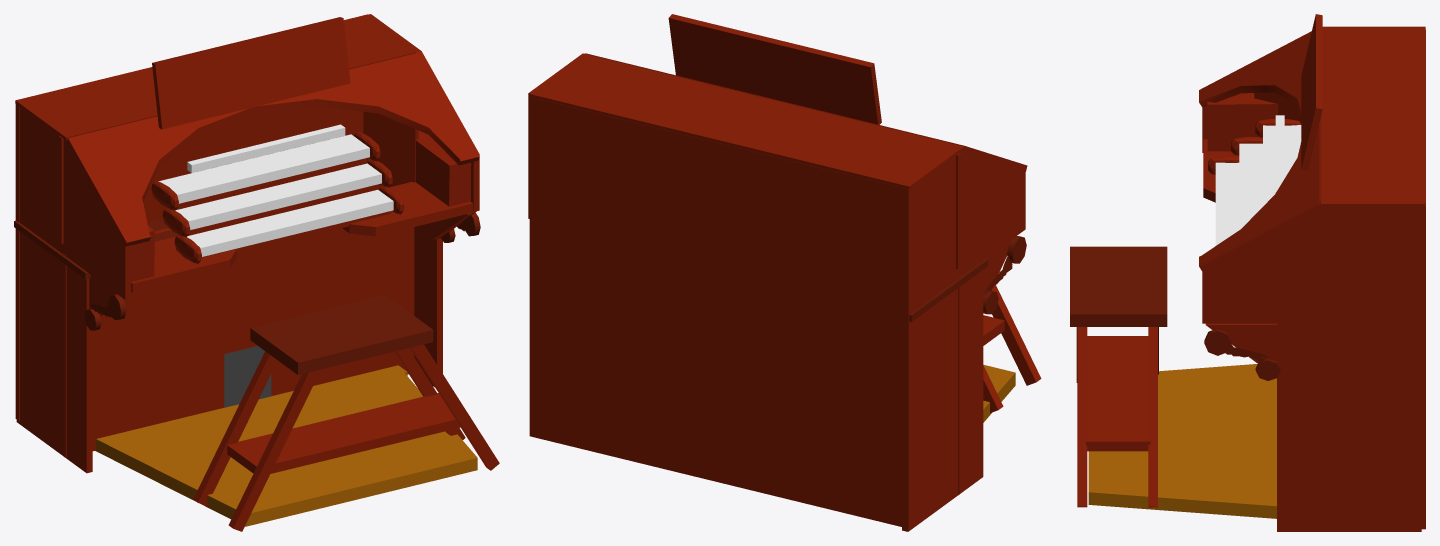
File: allenorgan.obj
3 views of the same model, side by side, from view 1: azimuth 30°, elevation 25°; view 2: azimuth 150°, elevation 25°; view 3: azimuth 270°, elevation 25° (orthographic). The views are drawn at different scales.
Parts seen in each view (by area): view 1: dividerwall, Boolean_3, cutslopefront, musicrack, Cube_1, Boolean_left, bench_seat, top, Cube_7, nameboard, manualkeys_1, manualkeys_2 (+20 smaller); view 2: backwall, top, Cube_1, musicrack, Boolean_left, Cube_6_2, cutslopefront, dividerwall, Boolean_3, midcrossmember, nameboard, Boolean_right (+1 smaller); view 3: Cube_1_1, Boolean_right, Boolean_3, top, bench_seat, cutslopefront, Cube_7, Cube_9, musicrack, Cube_6, manualkeys_2, manualkeys (+9 smaller).
Boxes of the visible parts, x1,y1,x2,y2 form: dividerwall: (62,227,414,457); Boolean_3: (95,365,477,526); cutslopefront: (66,52,479,246); musicrack: (152,17,350,129); Cube_1: (16,232,92,473); Boolean_left: (19,107,131,299); bench_seat: (250,295,433,374); top: (15,14,415,140); Cube_7: (227,393,460,473); nameboard: (58,106,363,243); manualkeys_1: (158,134,369,203); manualkeys_2: (187,189,393,256); backwall: (529,97,912,528); top: (530,55,963,189); Cube_1: (902,270,983,531); musicrack: (668,14,881,124); Boolean_left: (912,151,1025,311); Cube_6_2: (991,284,1041,385); cutslopefront: (585,53,1027,172); dividerwall: (958,275,962,494); Boolean_3: (983,364,1015,422); midcrossmember: (909,259,988,321); nameboard: (956,152,961,268); Boolean_right: (528,53,589,218); Cube_1_1: (1277,323,1421,531); Boolean_right: (1202,201,1424,323); Boolean_3: (1088,364,1276,518); top: (1321,26,1425,205); bench_seat: (1070,246,1167,326); cutslopefront: (1199,31,1321,270); Cube_7: (1086,336,1150,451); Cube_9: (1207,93,1278,151); musicrack: (1301,14,1322,170); Cube_6: (1077,327,1087,507); manualkeys_2: (1215,162,1239,245); manualkeys: (1239,143,1262,229).
Bounding box in the file's own units: 6.1 × 6.11 × 5.12.
